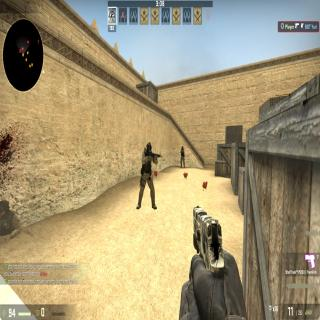CT-Body: (139, 140, 155, 209), (180, 145, 184, 168)
CT-Head: (146, 140, 152, 154), (180, 145, 184, 151)
